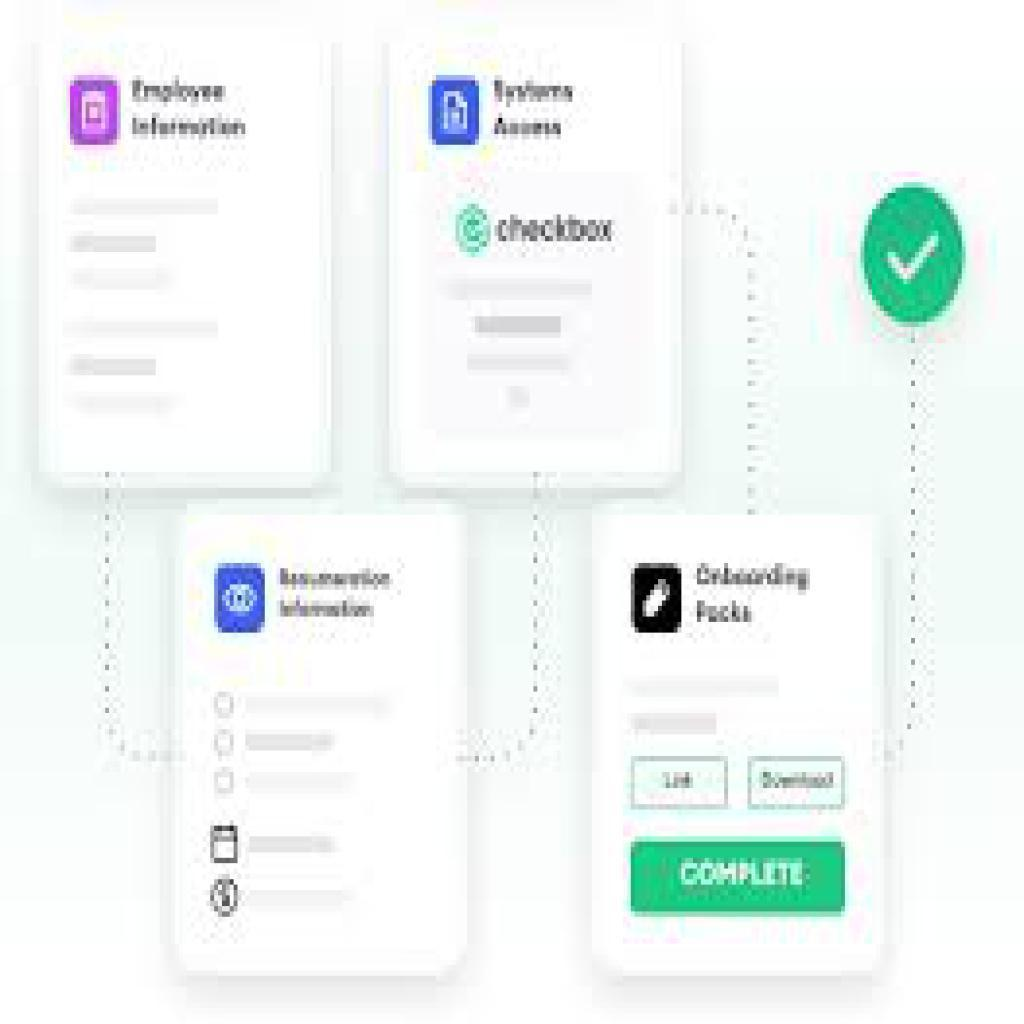button: (634, 845, 846, 912), (631, 757, 728, 811), (752, 758, 844, 806)
checkbox: (858, 179, 968, 331)
